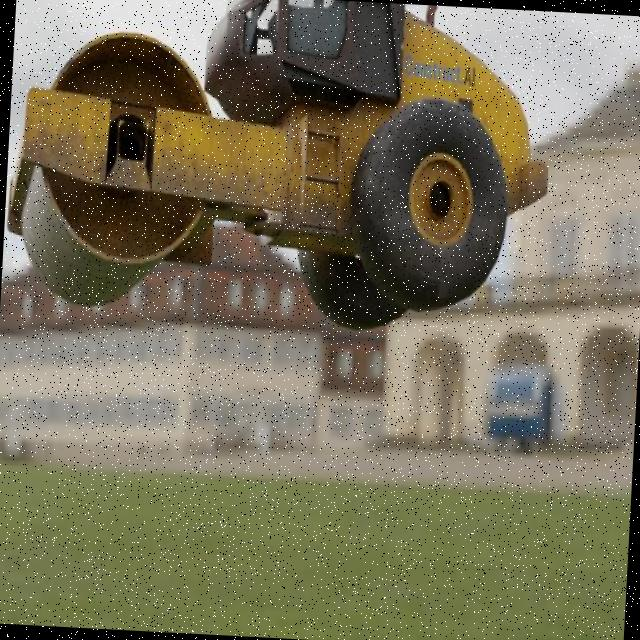Roller: (0, 0, 557, 341)
